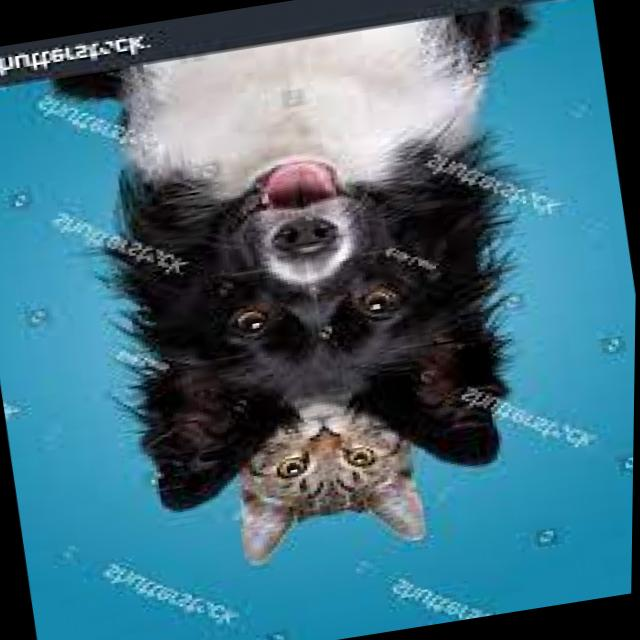Cat: (196, 396, 469, 586)
Dog: (81, 0, 537, 438)
